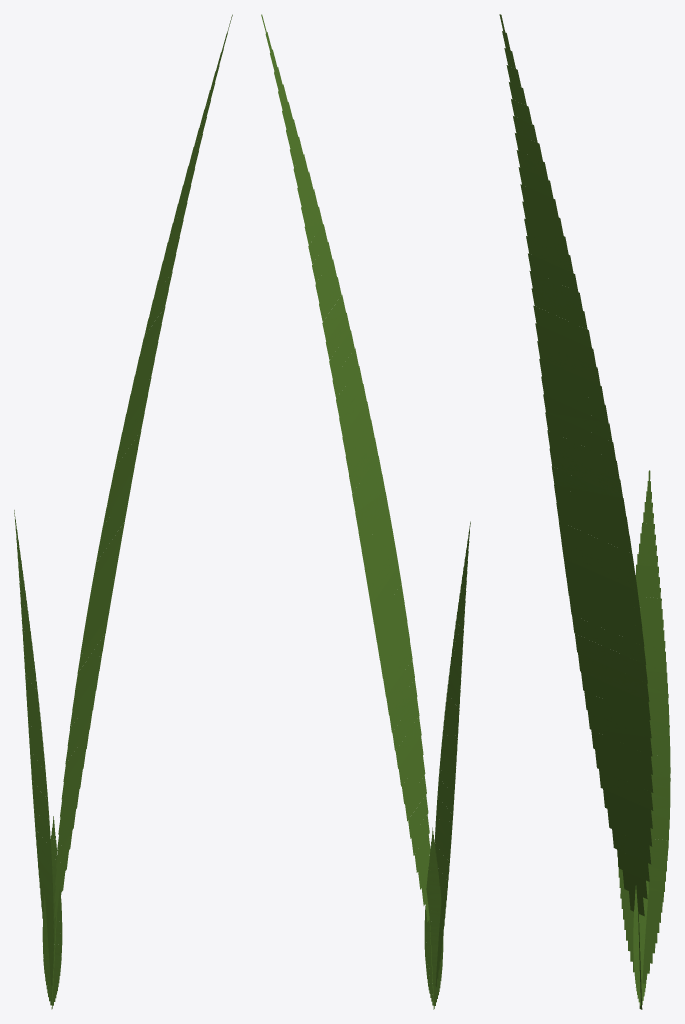
File: maize_001_day_035.dae
3 views of the same model, side by side, from view 1: azimuth 30°, elevation 25°; view 2: azimuth 210°, elevation 25°; view 3: azimuth 270°, elevation 25° (orthographic). The views are drawn at different scales.
Parts seen in each view (by area): view 1: node; view 2: node; view 3: node.
Boxes of the visible parts, x1=… form: node: x1=14, y1=14, x2=232, y2=1009; node: x1=261, y1=14, x2=470, y2=1009; node: x1=499, y1=14, x2=670, y2=1009.
Size of the model in its own units: 0.0315 by 0.2076 by 0.0306.
Materials: 1 (1 with a texture image).
